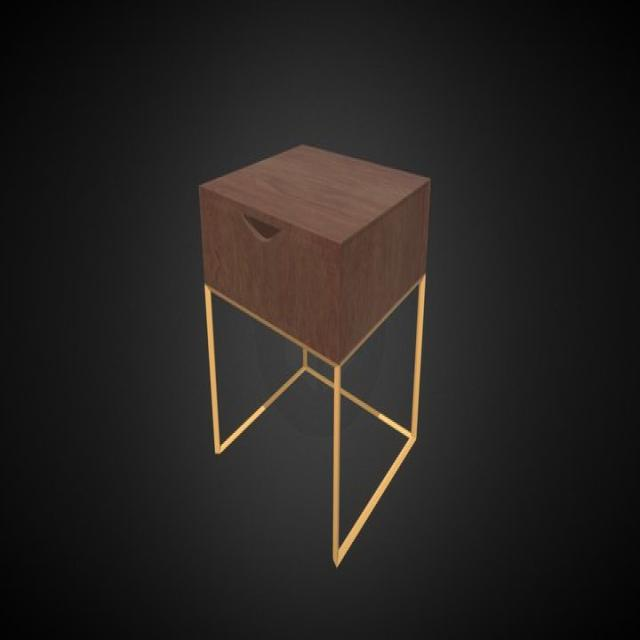table: (201, 141, 433, 568)
